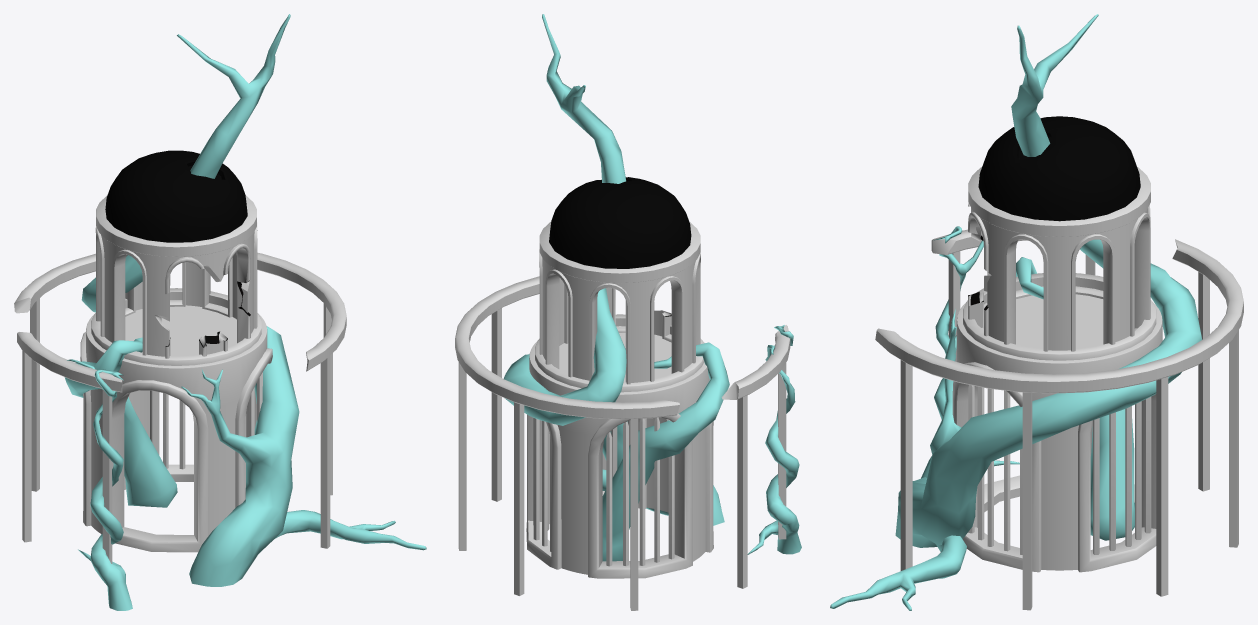
The model's file is Part_3_Tower_mesh.fbx.
3 views of the same model, side by side, from view 1: azimuth 30°, elevation 25°; view 2: azimuth 150°, elevation 25°; view 3: azimuth 270°, elevation 25° (orthographic). The views are drawn at different scales.
Visible parts, largest first — view 1: Part_3_Tower_mesh; view 2: Part_3_Tower_mesh; view 3: Part_3_Tower_mesh.
Part boxes in pixels (x1=…): Part_3_Tower_mesh: x1=14, y1=14, x2=426, y2=610; Part_3_Tower_mesh: x1=455, y1=14, x2=801, y2=610; Part_3_Tower_mesh: x1=830, y1=14, x2=1243, y2=610.
Size of the model in its own units: 16.22 by 26.66 by 17.2.
